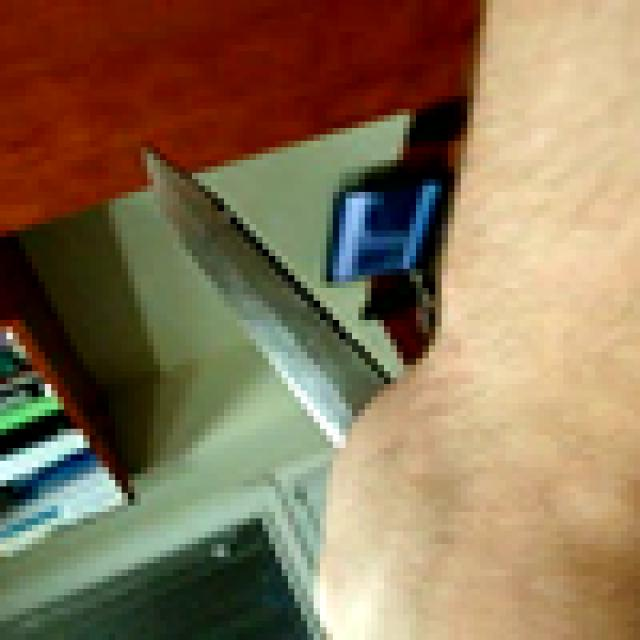Weapons: (140, 143, 393, 445)
